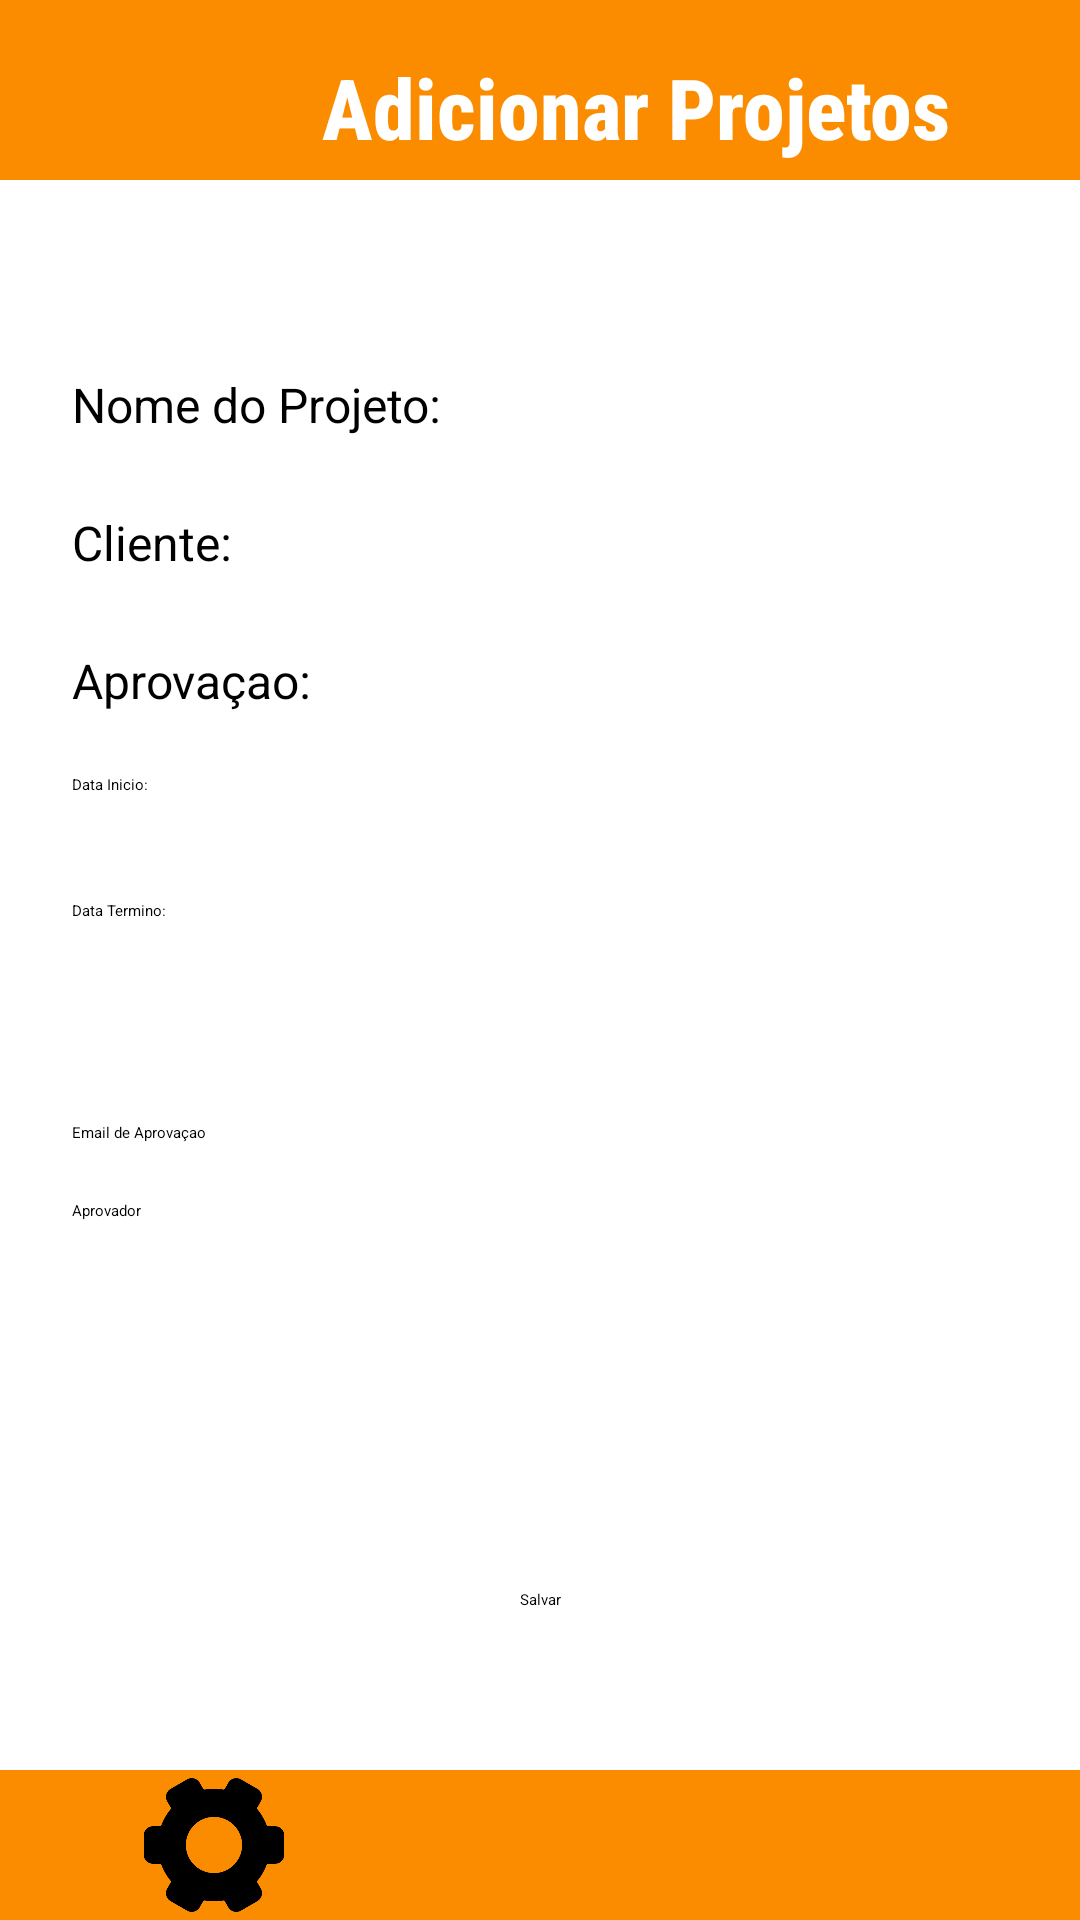

Locate icon controls on the screen. Image size 1080*1920, boxes as region(x1, y1, x2, y2).
config: region(144, 1778, 284, 1912)
